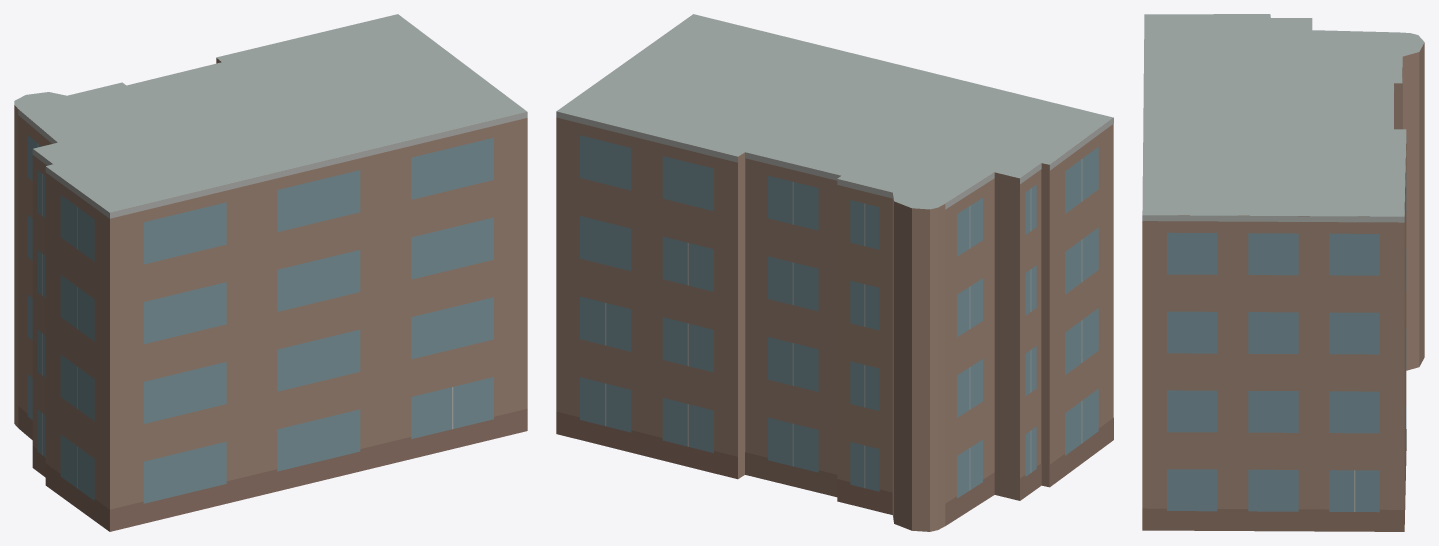
File: survey-upis-32907282.glb
3 renders of one model, left to right at view 1: azimuth 30°, elevation 25°; view 2: azimuth 150°, elevation 25°; view 3: azimuth 270°, elevation 25°, orthographic. The views are drawn at different scales.
Visible parts, largest first — view 1: survey-upis-32907282.tmp; view 2: survey-upis-32907282.tmp; view 3: survey-upis-32907282.tmp.
Boxes of the visible parts, bbox=[...] form: survey-upis-32907282.tmp: bbox=[14, 14, 527, 531]; survey-upis-32907282.tmp: bbox=[556, 14, 1113, 531]; survey-upis-32907282.tmp: bbox=[1142, 14, 1424, 531].
Bounding box in the file's own units: 18.07 × 13.1 × 10.64.
